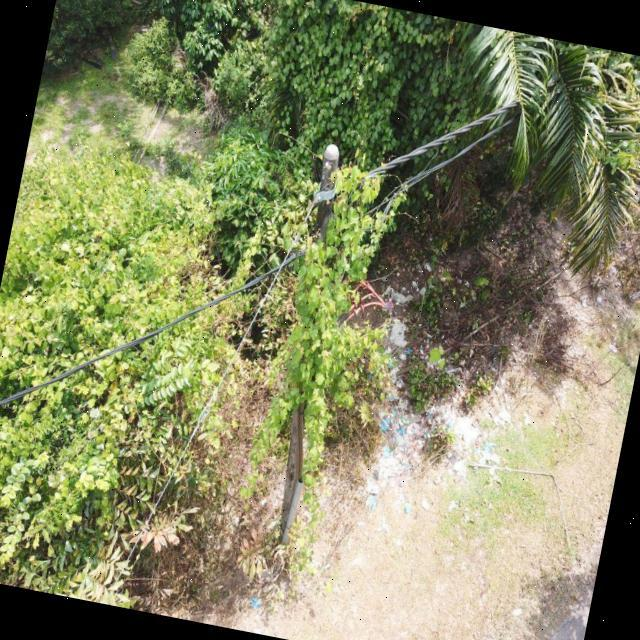critical vegetation: (225, 147, 412, 527)
